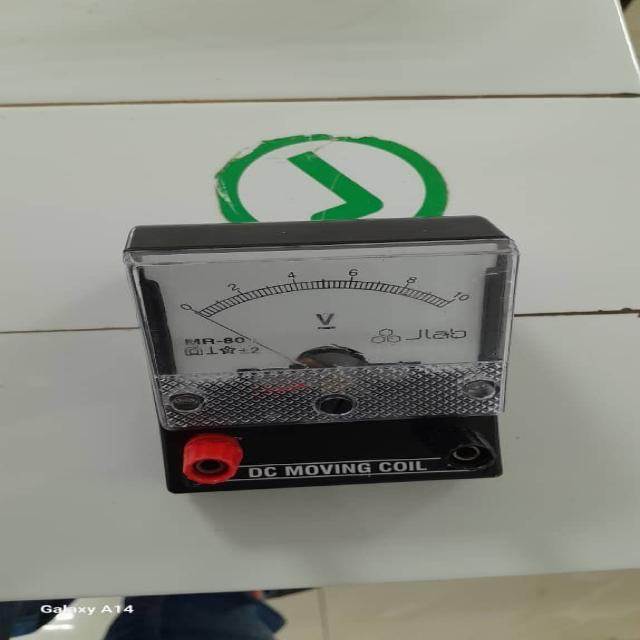Voltmeter: (100, 221, 521, 502)
